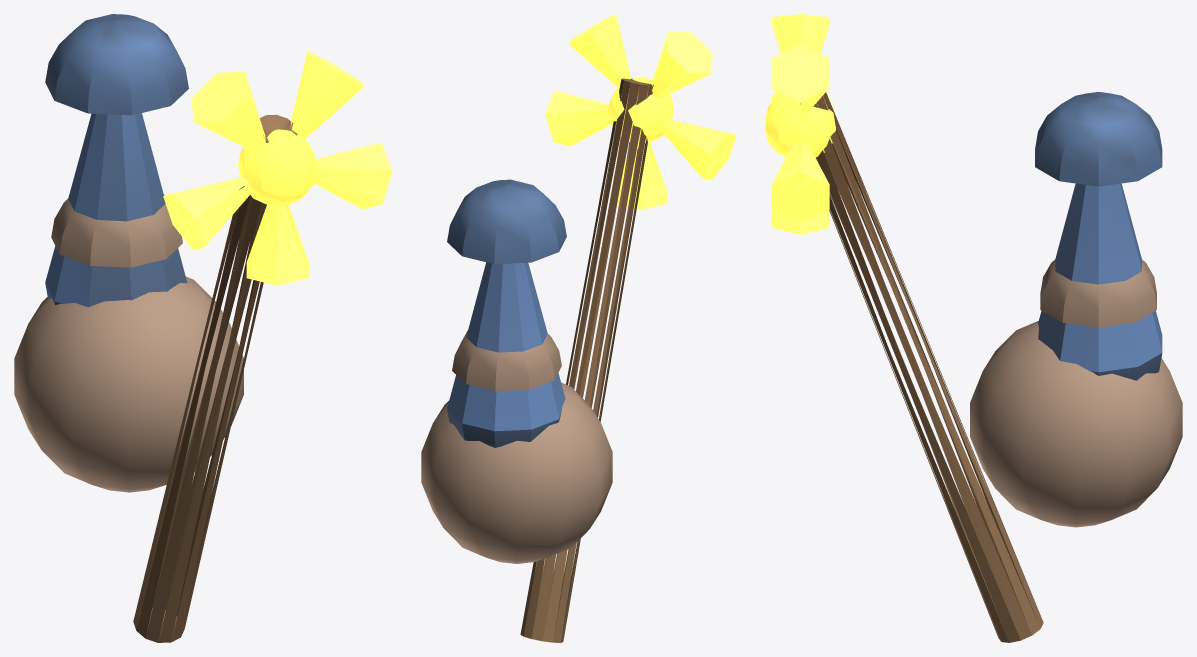
File: boy-balloon-wand-armR.glb
3 renders of one model, left to right at view 1: azimuth 30°, elevation 25°; view 2: azimuth 150°, elevation 25°; view 3: azimuth 270°, elevation 25°, orthographic. The views are drawn at different scales.
Parts seen in each view (by area): view 1: player_boy-balloon-wand:armR; view 2: player_boy-balloon-wand:armR; view 3: player_boy-balloon-wand:armR.
Part boxes in pixels (x1,y1,x2,y2): player_boy-balloon-wand:armR: (14,14,392,642); player_boy-balloon-wand:armR: (421,14,736,642); player_boy-balloon-wand:armR: (765,14,1182,642).
Size of the model in its own units: 0.1195 by 0.3609 by 0.2241.
